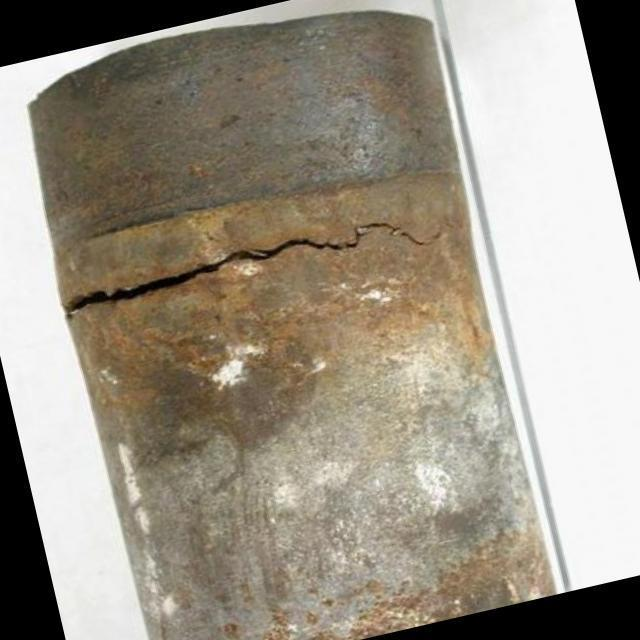defect: (59, 214, 445, 319)
